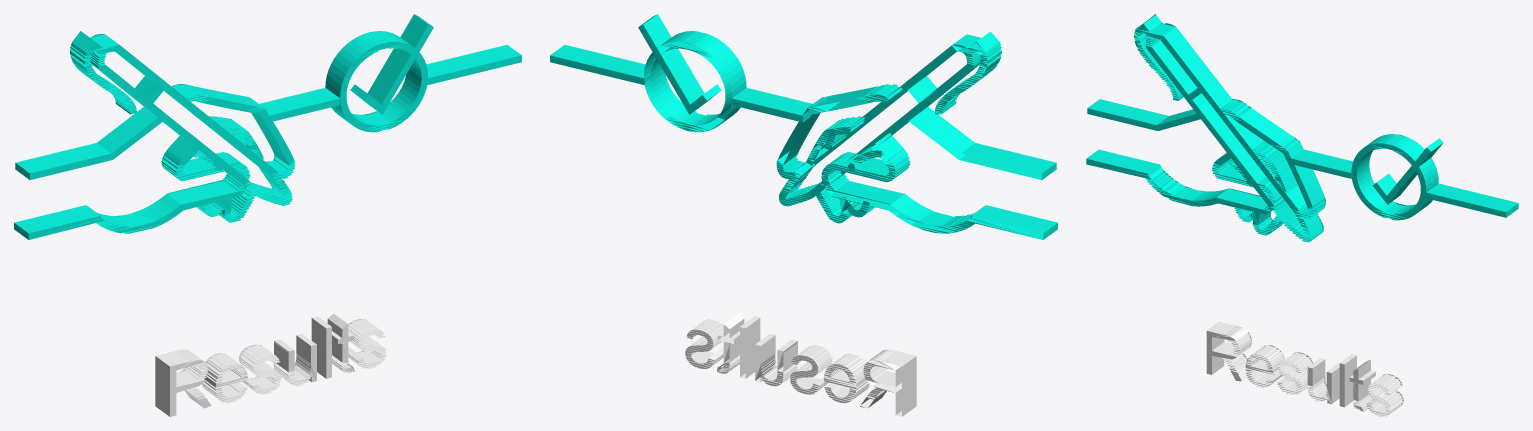
Rendered from asset.glb.
3 renders of one model, left to right at view 1: azimuth 30°, elevation 25°; view 2: azimuth 150°, elevation 25°; view 3: azimuth 330°, elevation 25°, orthographic. The views are drawn at different scales.
Parts seen in each view (by area): view 1: Curve.017, Curve.007, Curve.008, Curve.015, Curve.016, Curve.009, Curve.011, Curve.010; view 2: Curve.017, Curve.007, Curve.008, Curve.015, Curve.016, Curve.009, Curve.011, Curve.010; view 3: Curve.007, Curve.017, Curve.008, Curve.015, Curve.016, Curve.009, Curve.010, Curve.011.
Part boxes in pixels (bbox=[...]): Curve.017: bbox=[155, 313, 386, 416]; Curve.007: bbox=[15, 31, 292, 205]; Curve.008: bbox=[14, 136, 250, 239]; Curve.015: bbox=[259, 14, 521, 122]; Curve.016: bbox=[325, 31, 427, 132]; Curve.009: bbox=[172, 84, 295, 178]; Curve.011: bbox=[196, 188, 257, 222]; Curve.010: bbox=[209, 116, 263, 160]; Curve.017: bbox=[685, 313, 916, 416]; Curve.007: bbox=[779, 31, 1056, 206]; Curve.008: bbox=[821, 133, 1057, 239]; Curve.015: bbox=[550, 14, 815, 122]; Curve.016: bbox=[644, 31, 746, 132]; Curve.009: bbox=[776, 84, 902, 179]; Curve.011: bbox=[813, 188, 874, 223]; Curve.010: bbox=[806, 116, 865, 165]; Curve.007: bbox=[1087, 14, 1323, 242]; Curve.017: bbox=[1206, 321, 1403, 416]; Curve.008: bbox=[1086, 149, 1282, 214]; Curve.015: bbox=[1291, 138, 1518, 217]; Curve.016: bbox=[1351, 134, 1438, 220]; Curve.009: bbox=[1219, 99, 1325, 219]; Curve.010: bbox=[1251, 141, 1297, 193]; Curve.011: bbox=[1234, 207, 1292, 235].
Size of the model in its own units: 0.1075 by 0.0822 by 0.00554.
